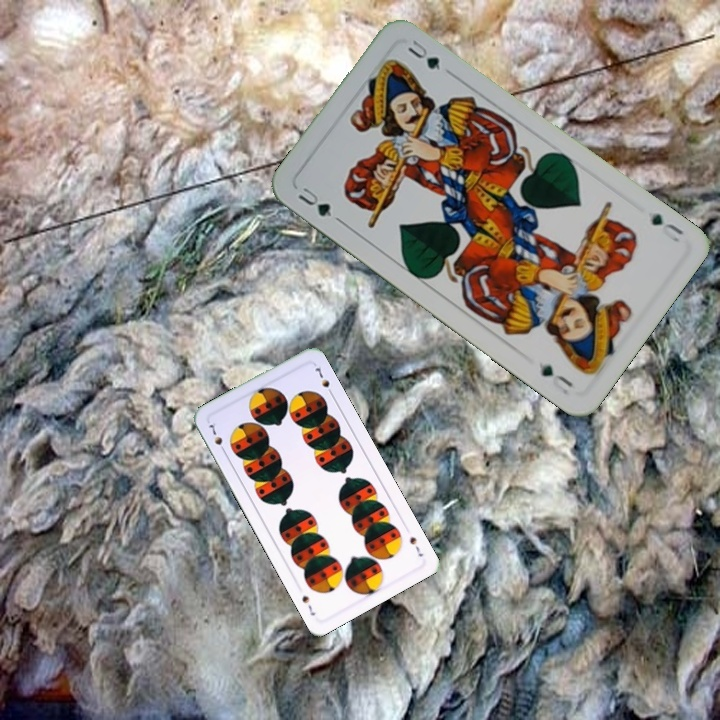GU: (293, 183, 334, 220), (647, 209, 686, 245)
S7: (205, 420, 228, 456), (406, 532, 426, 559)
